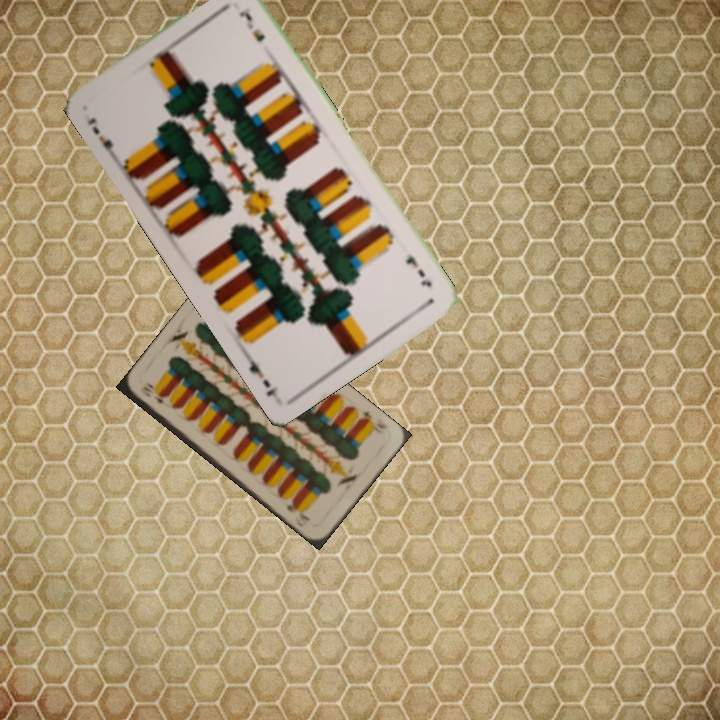E10: (356, 407, 390, 432), (136, 382, 166, 406)
E7: (83, 113, 119, 161), (401, 251, 435, 290)
